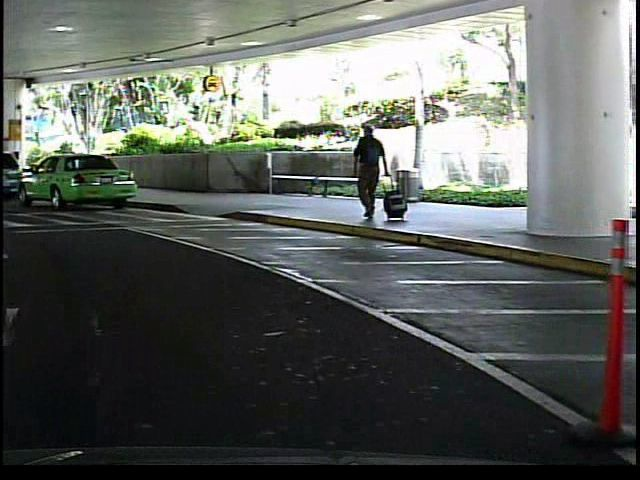person: (347, 117, 391, 230)
